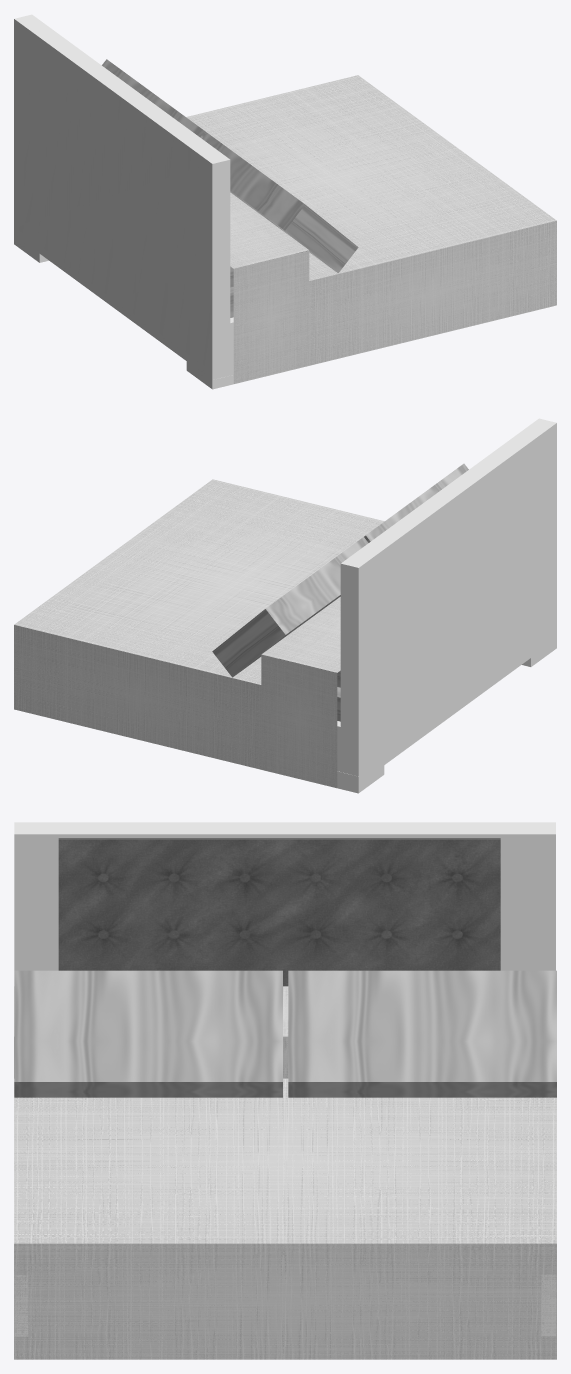
File: flynns_bed.obj
3 renders of one model, top to bottom at view 1: azimuth 30°, elevation 25°; view 2: azimuth 150°, elevation 25°; view 3: azimuth 270°, elevation 25°, orthographic. The views are drawn at different scales.
Visible parts, largest first — view 1: cube.018, cube.009, cube.016, cube.015, cube.007, cube.013, cube.002, cube.006, cube; view 2: cube.018, cube.009, cube.010, cube.014, cube.006, cube.013, cube.002, cube.007, cube.020; view 3: cube.009, cube.011, cube.019, cube.006, cube.007, cube.018, cube.000, cube.001.
Boxes of the visible parts, box(x1,y1,x2,y2) form: cube.018: box(14, 14, 230, 372); cube.009: box(186, 75, 556, 280); cube.016: box(309, 220, 556, 365); cube.015: box(233, 250, 309, 383); cube.007: box(202, 133, 358, 273); cube.013: box(230, 192, 308, 268); cube.002: box(14, 227, 233, 379); cube.006: box(102, 59, 206, 138); cube: box(186, 308, 545, 389); cube.018: box(340, 418, 556, 776); cube.009: box(14, 479, 384, 684); cube.010: box(14, 625, 261, 769); cube.014: box(261, 654, 337, 788); cube.006: box(212, 537, 368, 677); cube.013: box(262, 597, 340, 672); cube.002: box(337, 631, 556, 783); cube.007: box(364, 463, 468, 542); cube.020: box(337, 765, 384, 793); cube.009: box(14, 1078, 556, 1243); cube.011: box(14, 1243, 556, 1359); cube.019: box(58, 838, 500, 986); cube.006: box(288, 970, 556, 1097); cube.007: box(14, 970, 282, 1097); cube.018: box(14, 822, 555, 970); cube.000: box(541, 1274, 556, 1336); cube.001: box(14, 1275, 28, 1336).
Bounding box in the file's own units: 3 × 1.88 × 3.
